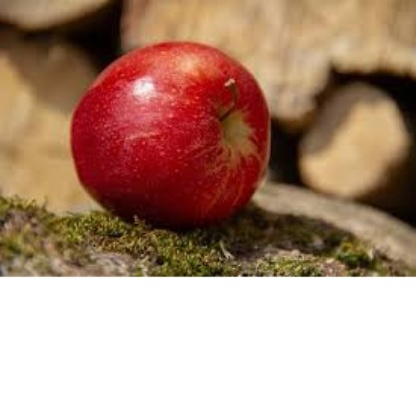tao: (70, 53, 274, 227)
